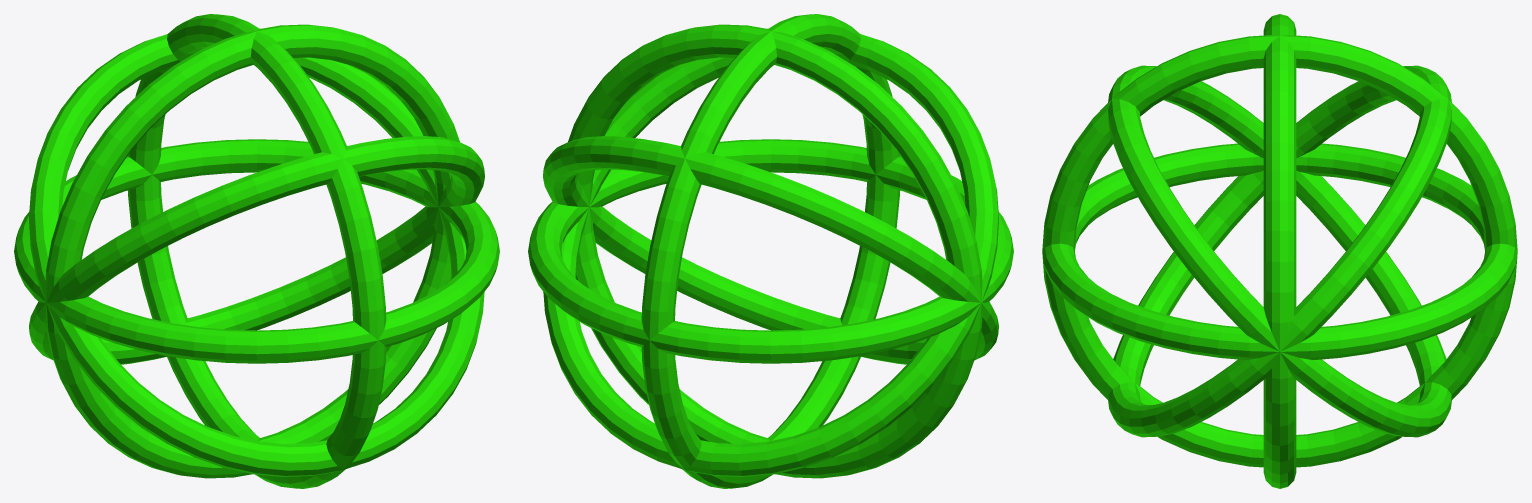
The model's file is orbit ball.fbx.
3 renders of one model, left to right at view 1: azimuth 30°, elevation 25°; view 2: azimuth 150°, elevation 25°; view 3: azimuth 270°, elevation 25°, orthographic. The views are drawn at different scales.
Visible parts, largest first — view 1: Torus; view 2: Torus; view 3: Torus.
Boxes of the visible parts, x1,y1,x2,y2 form: Torus: (14,14,499,488); Torus: (528,14,1013,488); Torus: (1042,14,1517,488).
Size of the model in its own units: 198 by 198 by 198.
